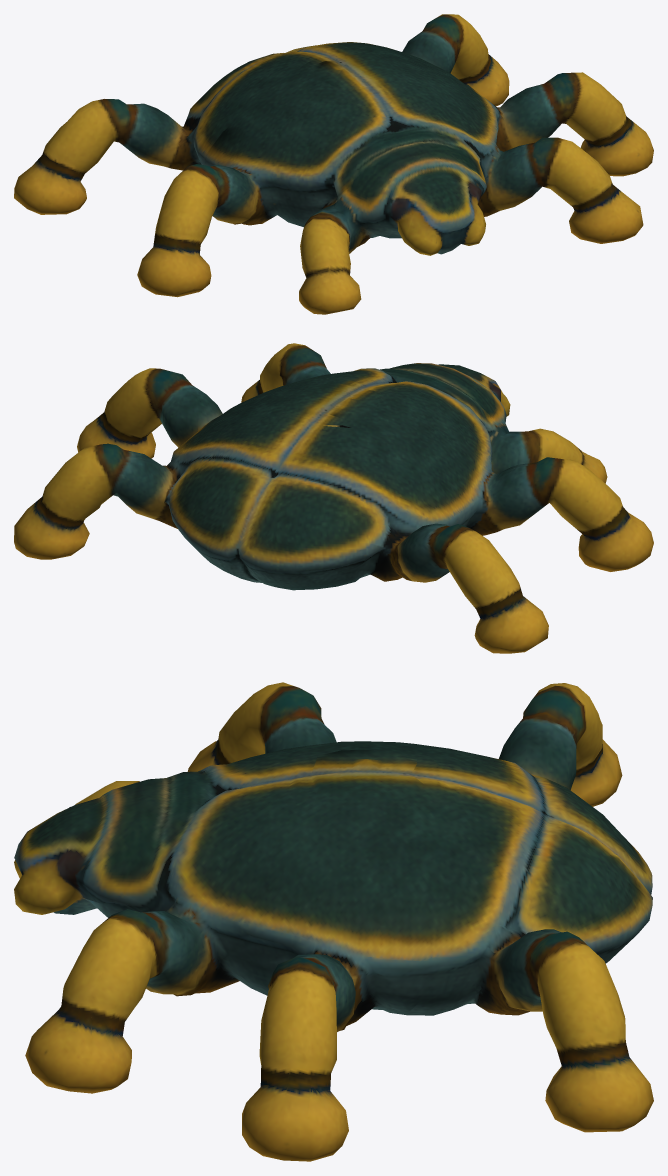
File: sand_skitterer_v2.glb
The picture shows the model from 3 angles, top to bottom: view 1: azimuth 30°, elevation 25°; view 2: azimuth 150°, elevation 25°; view 3: azimuth 270°, elevation 25°; orthographic projection. The views are drawn at different scales.
Visible parts, largest first — view 1: sand-skitterer-m0-4000-v1; view 2: sand-skitterer-m0-4000-v1; view 3: sand-skitterer-m0-4000-v1.
Part boxes in pixels (bbox=[...]): sand-skitterer-m0-4000-v1: bbox=[14, 14, 653, 314]; sand-skitterer-m0-4000-v1: bbox=[14, 343, 653, 653]; sand-skitterer-m0-4000-v1: bbox=[14, 682, 653, 1161].
Bounding box in the file's own units: 1 × 0.2528 × 0.7042.
1 material, 1 textured.
